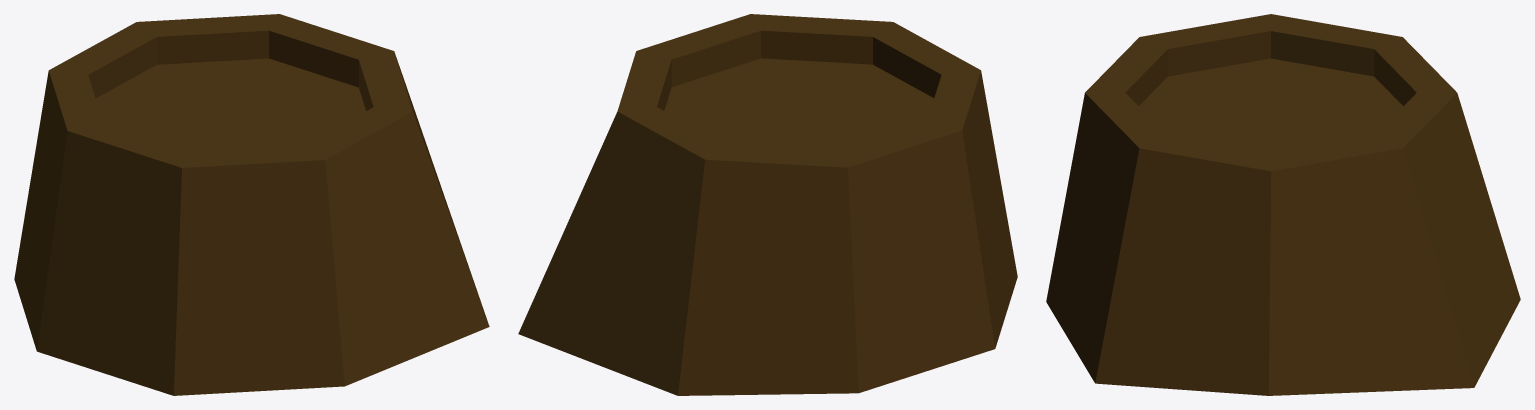
The model's file is ENV_Stump_1.fbx.
3 renders of one model, left to right at view 1: azimuth 30°, elevation 25°; view 2: azimuth 150°, elevation 25°; view 3: azimuth 270°, elevation 25°, orthographic.
Parts seen in each view (by area): view 1: ENV_Stump_1; view 2: ENV_Stump_1; view 3: ENV_Stump_1.
Part boxes in pixels (x1,y1,x2,y2): ENV_Stump_1: (14, 14, 489, 395); ENV_Stump_1: (518, 14, 1017, 395); ENV_Stump_1: (1046, 14, 1520, 395).
Bounding box in the file's own units: 0.5175 × 0.2685 × 0.5519.
